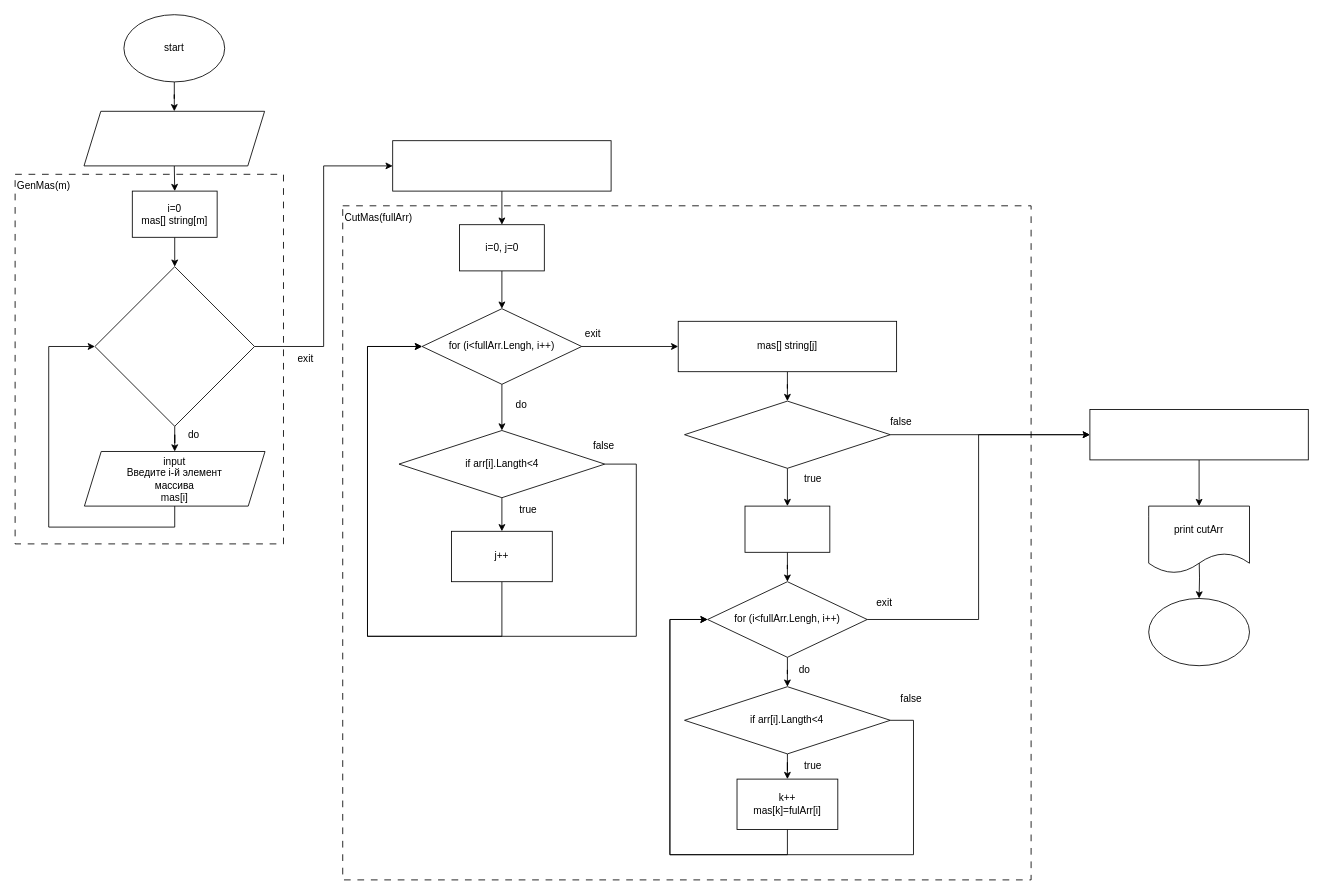
Some shapes in this 1323 by 895 pixel diagram are drawn without their labels. The shapes that lost their labels are listed below. From the top down, each one's centre as x and y in pixels, then its label:
At (x=174, y=138): "input Введите количество элементов первого массива m".
At (x=501, y=165): "fullArr=GenMas(m)".
At (x=174, y=346): "for (i<m, i++)".
At (x=787, y=434): "if j>0".
At (x=1198, y=434): "cutArr = CutMas(fullArr)".
At (x=787, y=528): "k=0, i=0".
At (x=1199, y=632): "end".
